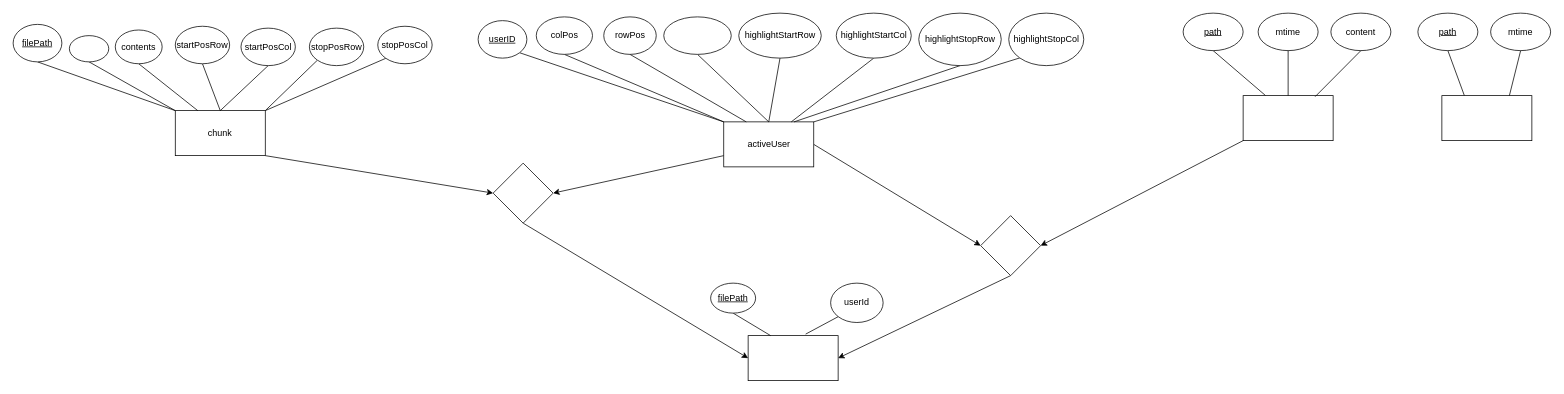
Image size: 1564x394. Some labels were removed from this diagram. Each missing label, with the box of its shape:
currently on: (492, 162, 553, 223)
directory: (1441, 95, 1532, 141)
file: (1242, 95, 1333, 141)
has open: (980, 215, 1041, 276)
num: (69, 35, 109, 62)
openFile: (747, 335, 838, 381)
openFilePath: (663, 16, 731, 54)
